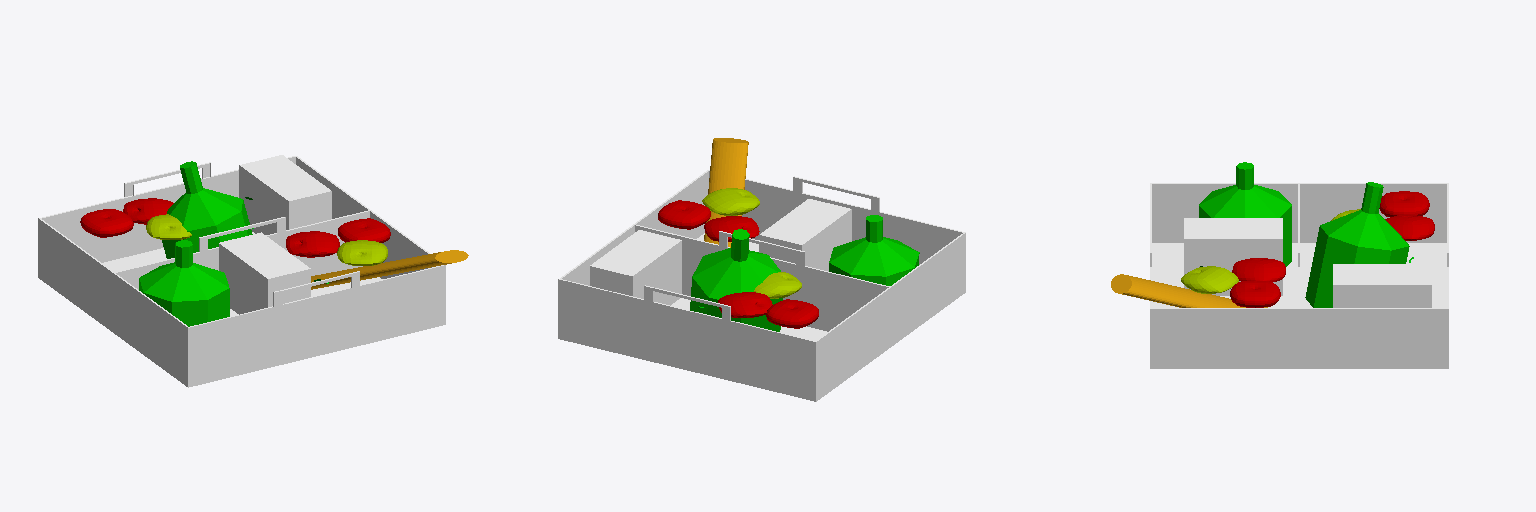
Rendered from sac4_60.obj.
3 renders of one model, left to right at view 1: azimuth 30°, elevation 25°; view 2: azimuth 150°, elevation 25°; view 3: azimuth 270°, elevation 25°, orthographic.
Visible parts, largest first — view 1: Cube.001, Cube.004, Cube_Cube.000, Cube_Cube.003, ungrouped, ungrouped.001, Cylinder, Pomme_Cube.001, Cube.003, Cube.001_Cube.002, Cube.002, Pomme_Cube.000 (+1 smaller); view 2: Cube.004, Cube.001, Cube_Cube.000, ungrouped.001, Cube_Cube.003, ungrouped, Cylinder, Cube.001_Cube.002, Cube.003, Cube.002, Pomme_Cube.000, Pomme_Cube.001 (+1 smaller); view 3: Cube.004, Cube.001, ungrouped.001, Cube_Cube.003, Cube_Cube.000, ungrouped, Cylinder, Cube.001_Cube.002, Cube.002, Cube.003, Pomme_Cube.001, Pomme_Cube.000.
Part boxes in pixels (x1,y1,x2,y2): Cube.001: (113,210,445,387); Cube.004: (38,156,371,332); Cube_Cube.000: (239,155,331,234); Cube_Cube.003: (219,232,310,314); ungrouped: (139,240,229,326); ungrouped.001: (162,161,252,258); Cylinder: (311,250,468,289); Pomme_Cube.001: (286,231,339,257); Cube.003: (80,209,133,237); Cube.001_Cube.002: (337,240,387,265); Cube.002: (338,218,390,242); Pomme_Cube.000: (123,198,173,224); Cube.004: (558,224,890,401); Cube.001: (635,170,965,346); Cube_Cube.000: (590,230,681,305); ungrouped.001: (690,229,782,331); Cube_Cube.003: (759,199,851,271); ungrouped: (829,215,919,285); Cylinder: (704,138,748,247); Cube.001_Cube.002: (702,188,759,215); Cube.003: (766,299,818,328); Cube.002: (658,200,710,229); Pomme_Cube.000: (718,292,772,317); Pomme_Cube.001: (704,216,759,241); Cube.004: (1298,183,1448,368); Cube.001: (1150,183,1299,368); ungrouped.001: (1305,182,1409,307); Cube_Cube.003: (1184,218,1282,295); Cube_Cube.000: (1333,264,1431,307); ungrouped: (1199,162,1291,266); Cylinder: (1111,274,1267,307); Cube.001_Cube.002: (1181,266,1238,293); Cube.002: (1230,280,1280,307); Cube.003: (1379,191,1429,216); Pomme_Cube.001: (1232,258,1285,281); Pomme_Cube.000: (1385,215,1434,240).
Bounding box in the file's own units: 30.94 × 14.06 × 34.11.